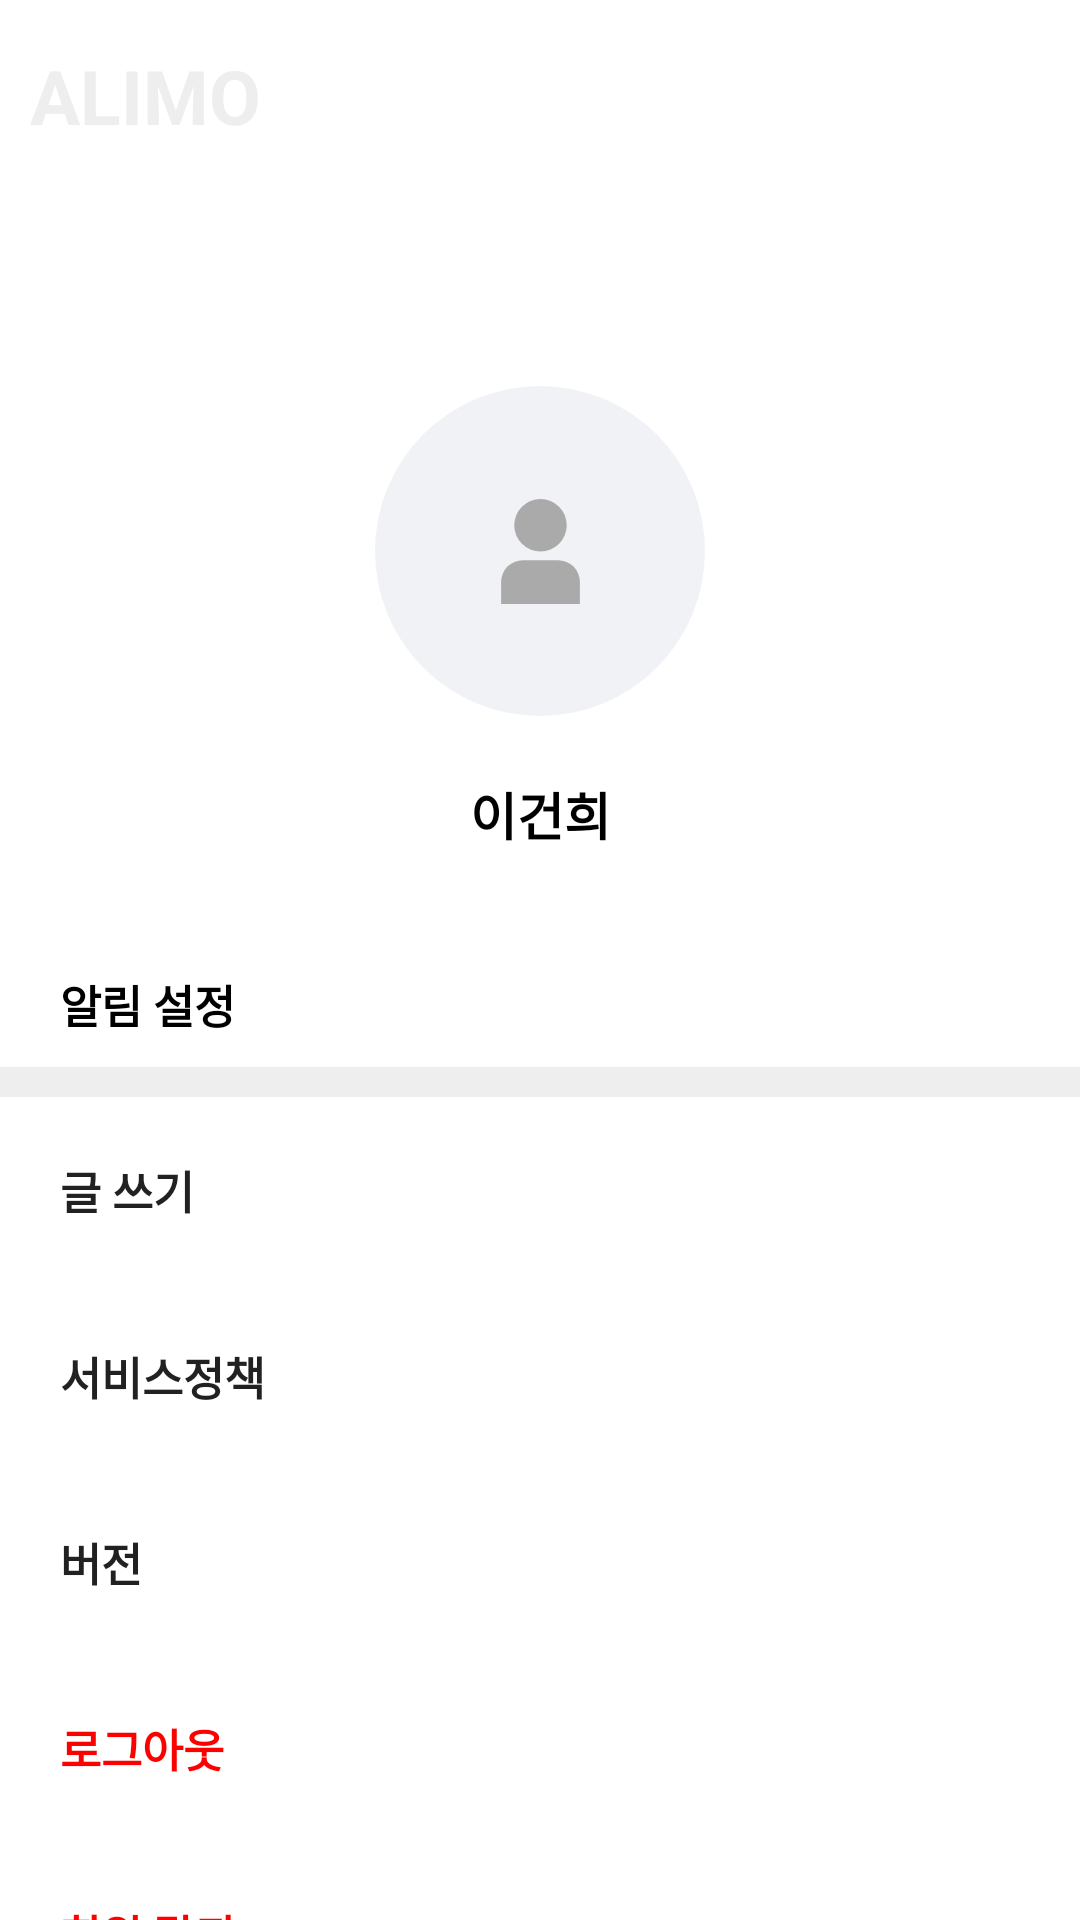

Where to tap for icons on this 1080w x 1920h app screen, as point (x, y):
user: point (540, 551)
